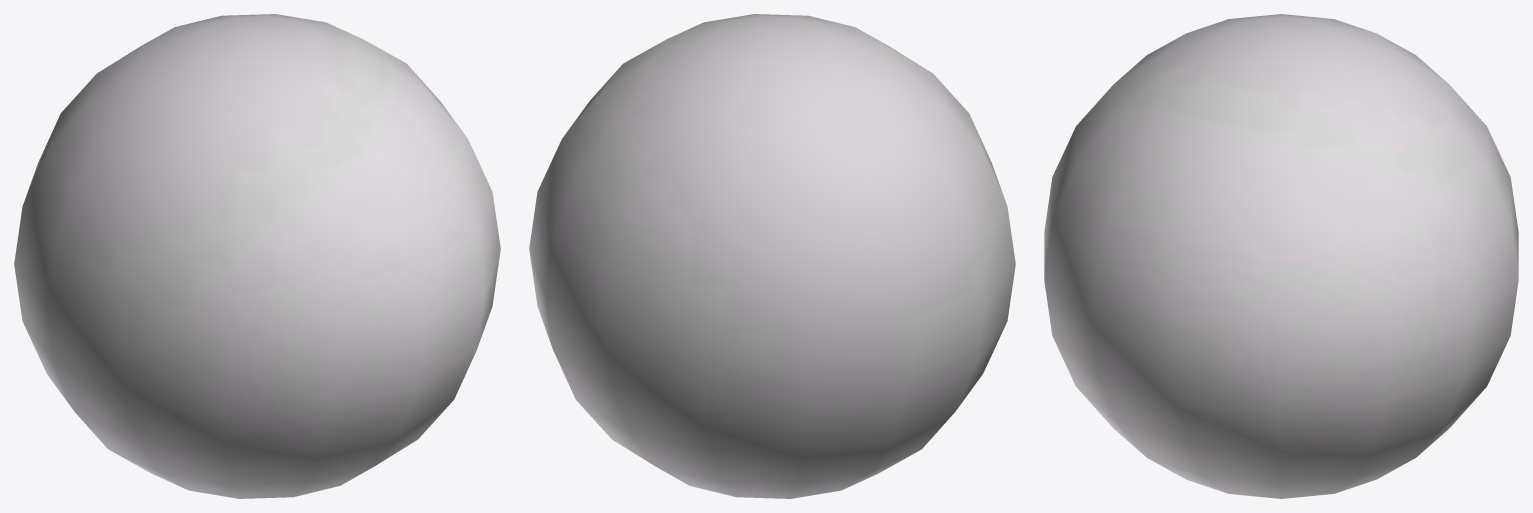
File: ui_select.fbx
3 views of the same model, side by side, from view 1: azimuth 30°, elevation 25°; view 2: azimuth 150°, elevation 25°; view 3: azimuth 270°, elevation 25° (orthographic).
Parts seen in each view (by area): view 1: mesh_node; view 2: mesh_node; view 3: mesh_node.
Boxes of the visible parts, bbox=[...] form: mesh_node: bbox=[14, 14, 500, 498]; mesh_node: bbox=[529, 14, 1015, 498]; mesh_node: bbox=[1044, 14, 1518, 498].
Size of the model in its own units: 2 by 2 by 1.95.
